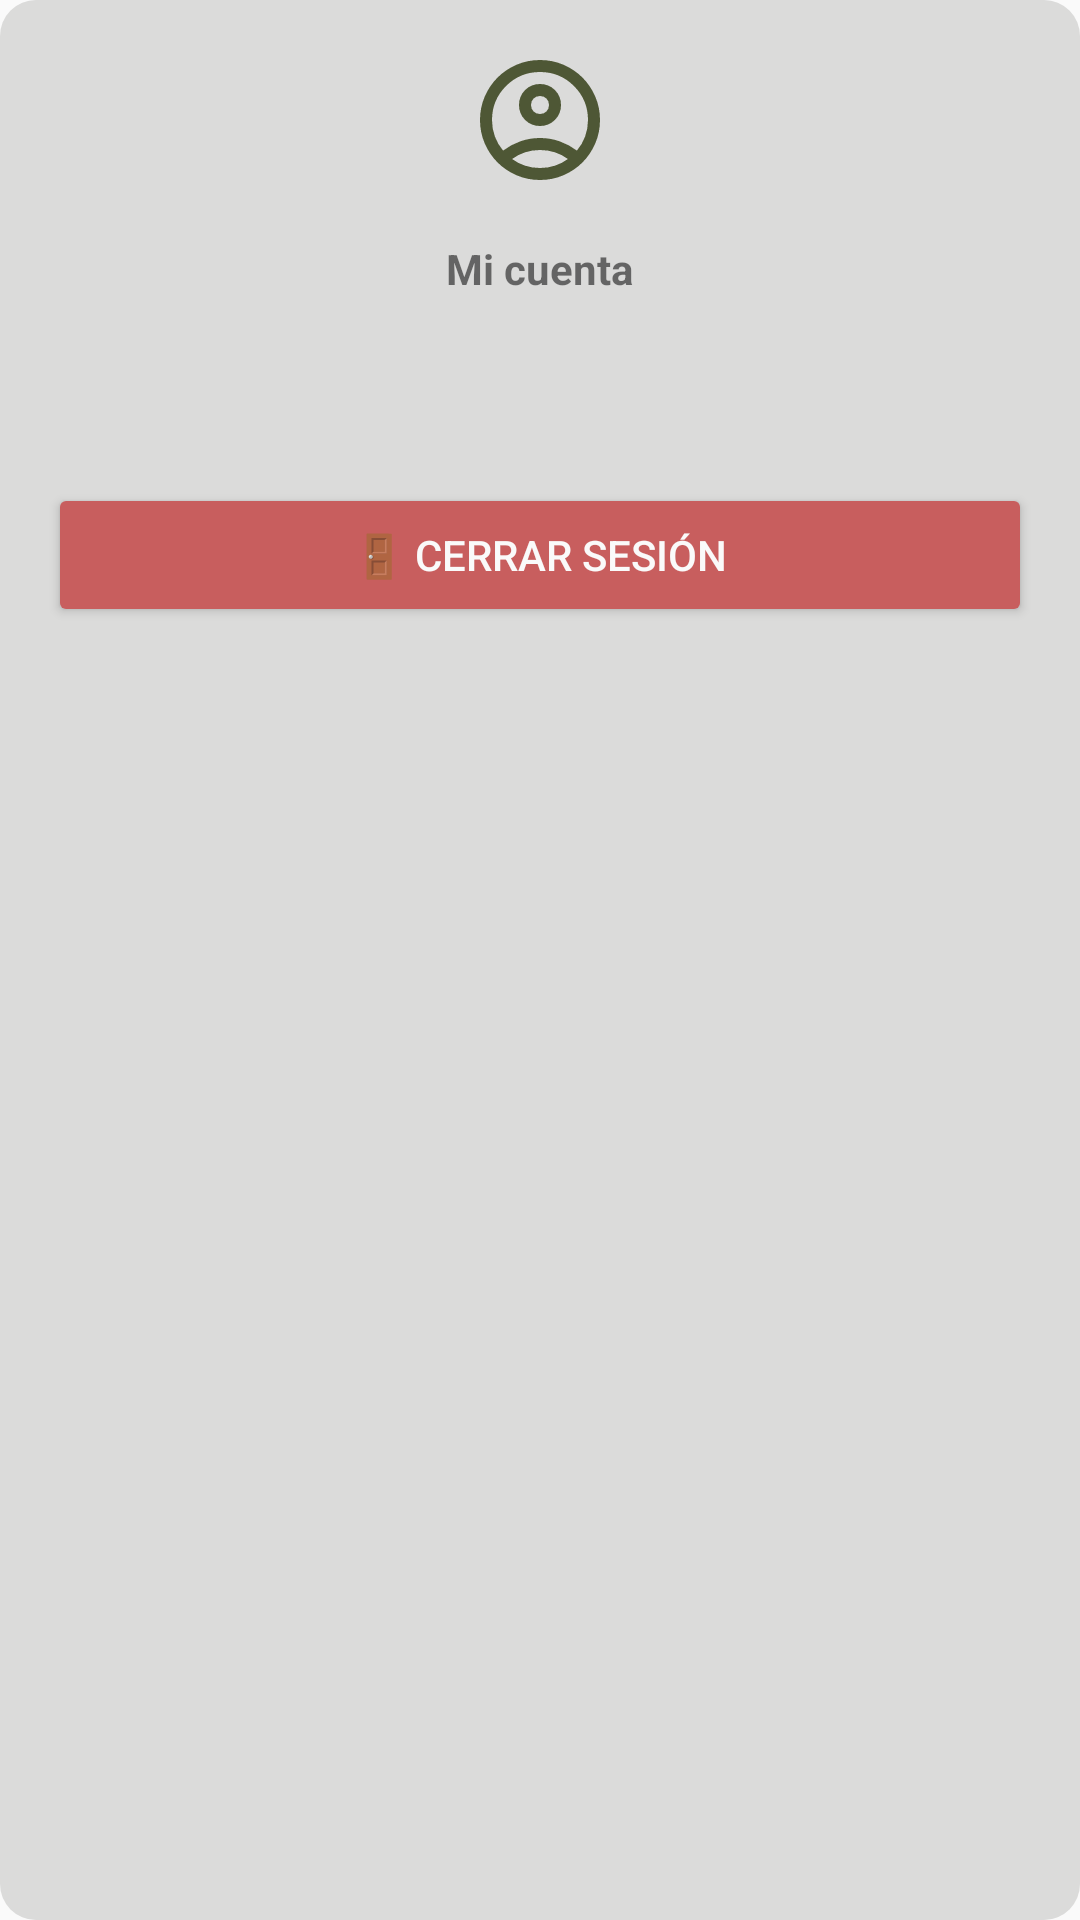

Locate icon controls on the screen. Image size 1080×1920, boxes as box=[x1, y1, x2, y2].
account popup: box=[480, 60, 600, 180]
